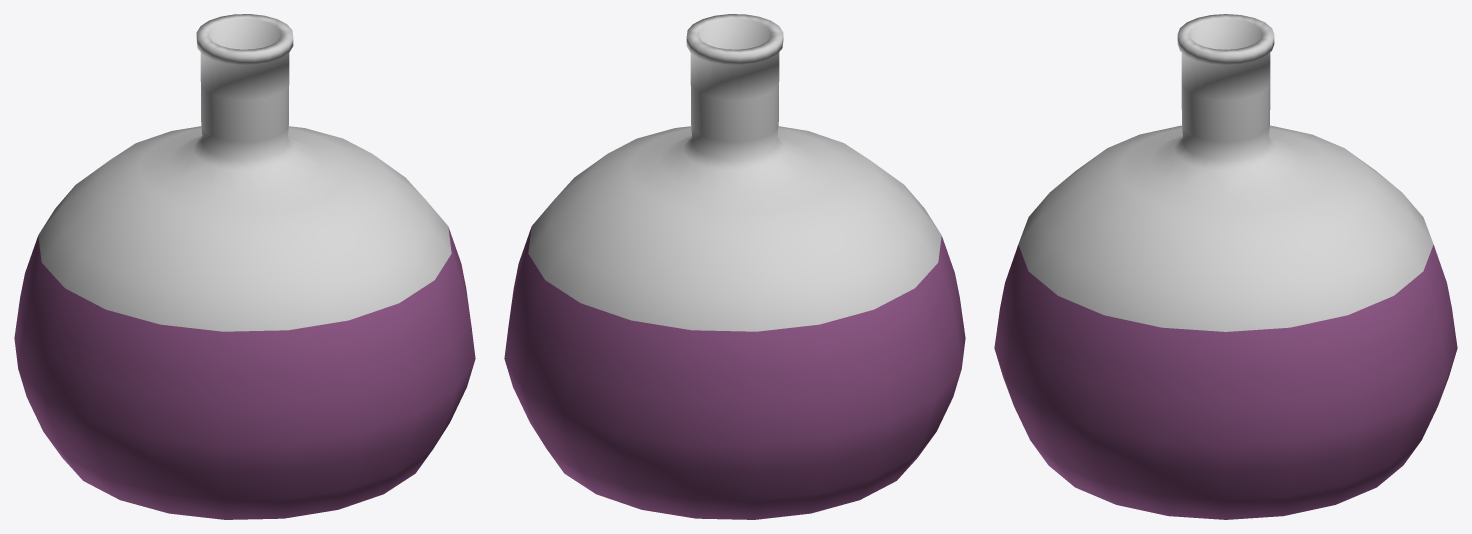
Rendered from Flask3.fbx.
The picture shows the model from 3 angles, left to right: view 1: azimuth 30°, elevation 25°; view 2: azimuth 150°, elevation 25°; view 3: azimuth 270°, elevation 25°; orthographic projection.
Parts seen in each view (by area): view 1: Circle.001; view 2: Circle.001; view 3: Circle.001.
Boxes of the visible parts, left/top/right/bottom form: Circle.001: left=14, top=14, right=475, bottom=519; Circle.001: left=504, top=14, right=965, bottom=519; Circle.001: left=994, top=14, right=1457, bottom=519.
Size of the model in its own units: 0.1637 by 0.1622 by 0.1637.
